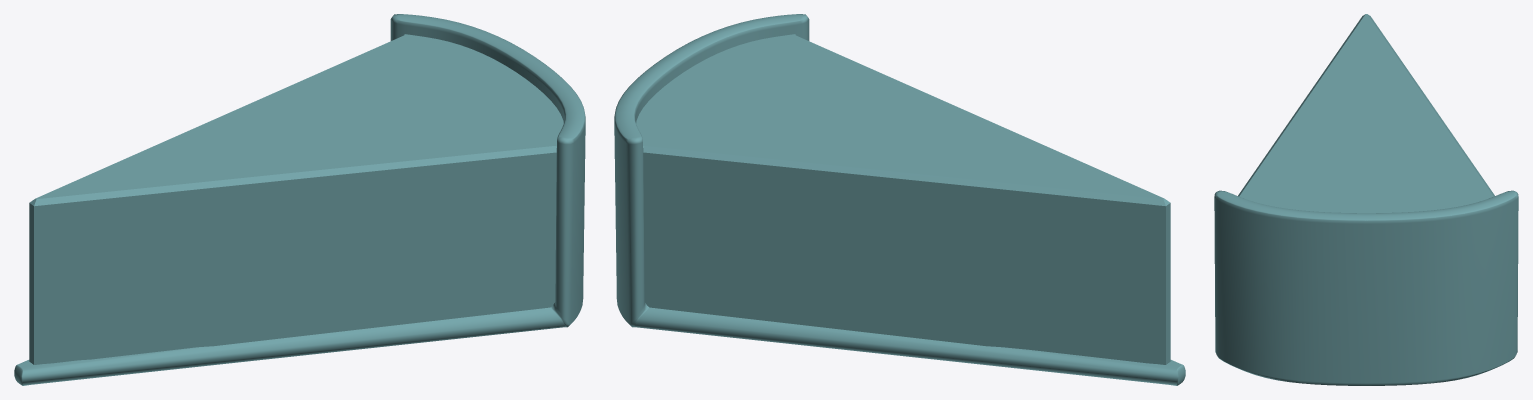
The model's file is SM_CAKE_1.fbx.
The picture shows the model from 3 angles, left to right: view 1: azimuth 30°, elevation 25°; view 2: azimuth 150°, elevation 25°; view 3: azimuth 270°, elevation 25°; orthographic projection. The views are drawn at different scales.
Parts seen in each view (by area): view 1: SM_CAKE; view 2: SM_CAKE; view 3: SM_CAKE.
Part boxes in pixels (left/top/right/bottom): SM_CAKE: left=14, top=14, right=585, bottom=385; SM_CAKE: left=614, top=14, right=1185, bottom=385; SM_CAKE: left=1214, top=14, right=1518, bottom=385.
Bounding box in the file's own units: 25.03 × 8.86 × 14.3.
